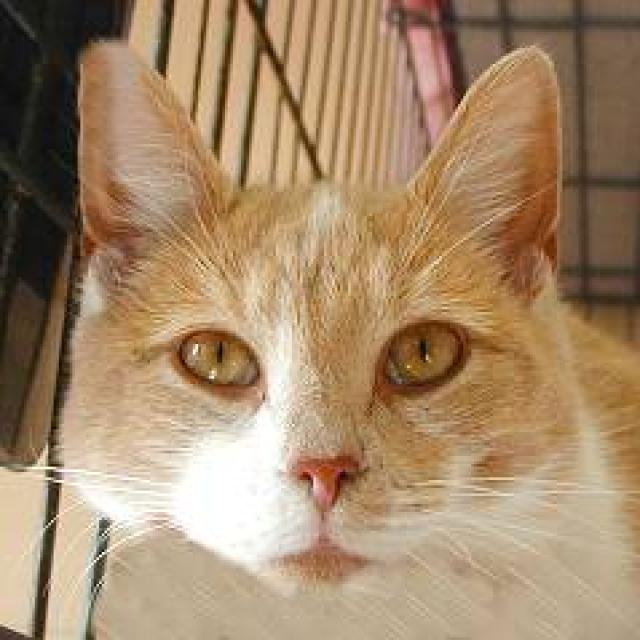Cats: (5, 35, 638, 637)
